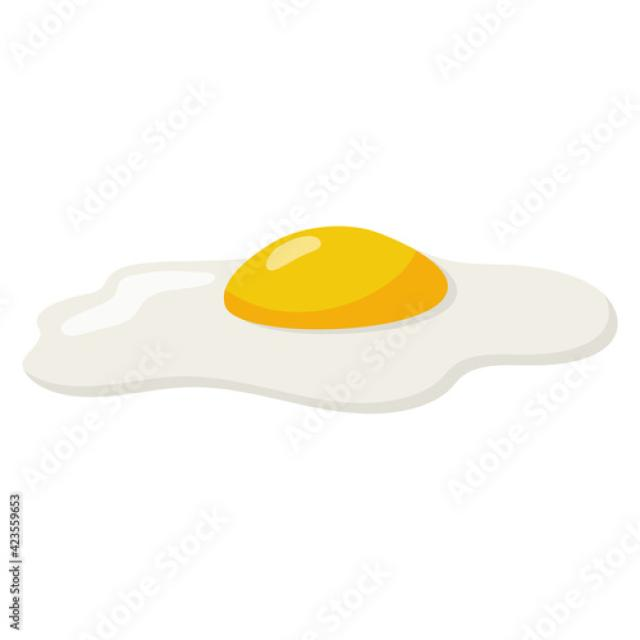Egg: (24, 226, 616, 412)
